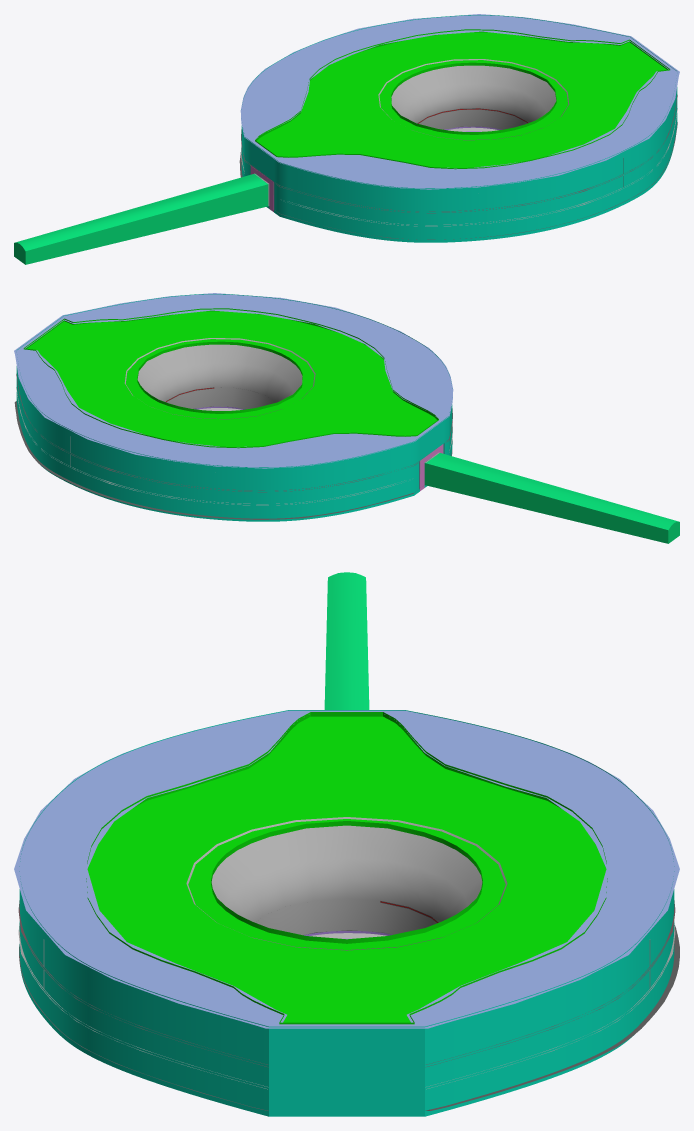
Rendered from SM_GaleriaArte_Interior.fbx.
The picture shows the model from 3 angles, top to bottom: view 1: azimuth 30°, elevation 25°; view 2: azimuth 150°, elevation 25°; view 3: azimuth 270°, elevation 25°; orthographic projection. The views are drawn at different scales.
Visible parts, largest first — view 1: New_TechoGaleriaInt, New_MurallaExterior, New_TechoVidrio, New_VidrioCentral, New_Entrada, New_Piso3erPlanta1, New_Piso2daPlanta, New_PisoGaleria; view 2: New_TechoGaleriaInt, New_MurallaExterior, New_TechoVidrio, New_VidrioCentral, New_Entrada, New_PisoGaleria, New_Piso2daPlanta, New_Piso3erPlanta1; view 3: New_TechoGaleriaInt, New_MurallaExterior, New_TechoVidrio, New_VidrioCentral, New_Entrada, New_PisoGaleria, New_Piso2daPlanta, New_Piso3erPlanta1.
Part boxes in pixels (x1,y1,x2,y2): New_TechoGaleriaInt: (255,29,670,169); New_MurallaExterior: (241,15,677,242); New_TechoVidrio: (240,14,679,189); New_VidrioCentral: (378,59,569,140); New_Entrada: (14,173,268,264); New_Piso3erPlanta1: (241,95,677,213); New_Piso2daPlanta: (241,108,677,226); New_PisoGaleria: (239,122,677,239); New_TechoGaleriaInt: (23,308,438,448); New_MurallaExterior: (16,294,452,521); New_TechoVidrio: (14,293,453,468); New_VidrioCentral: (124,338,315,419); New_Entrada: (424,453,679,543); New_PisoGaleria: (14,401,452,519); New_Piso2daPlanta: (16,387,452,505); New_Piso3erPlanta1: (16,374,452,492); New_TechoGaleriaInt: (86,712,607,1024); New_MurallaExterior: (19,710,674,1116); New_TechoVidrio: (14,710,679,1028); New_VidrioCentral: (186,817,507,950); New_Entrada: (324,572,369,709); New_PisoGaleria: (19,925,679,1110); New_Piso2daPlanta: (18,923,675,1089); New_Piso3erPlanta1: (18,900,675,1067).
Size of the model in its own units: 18584 by 1848 by 10170.
